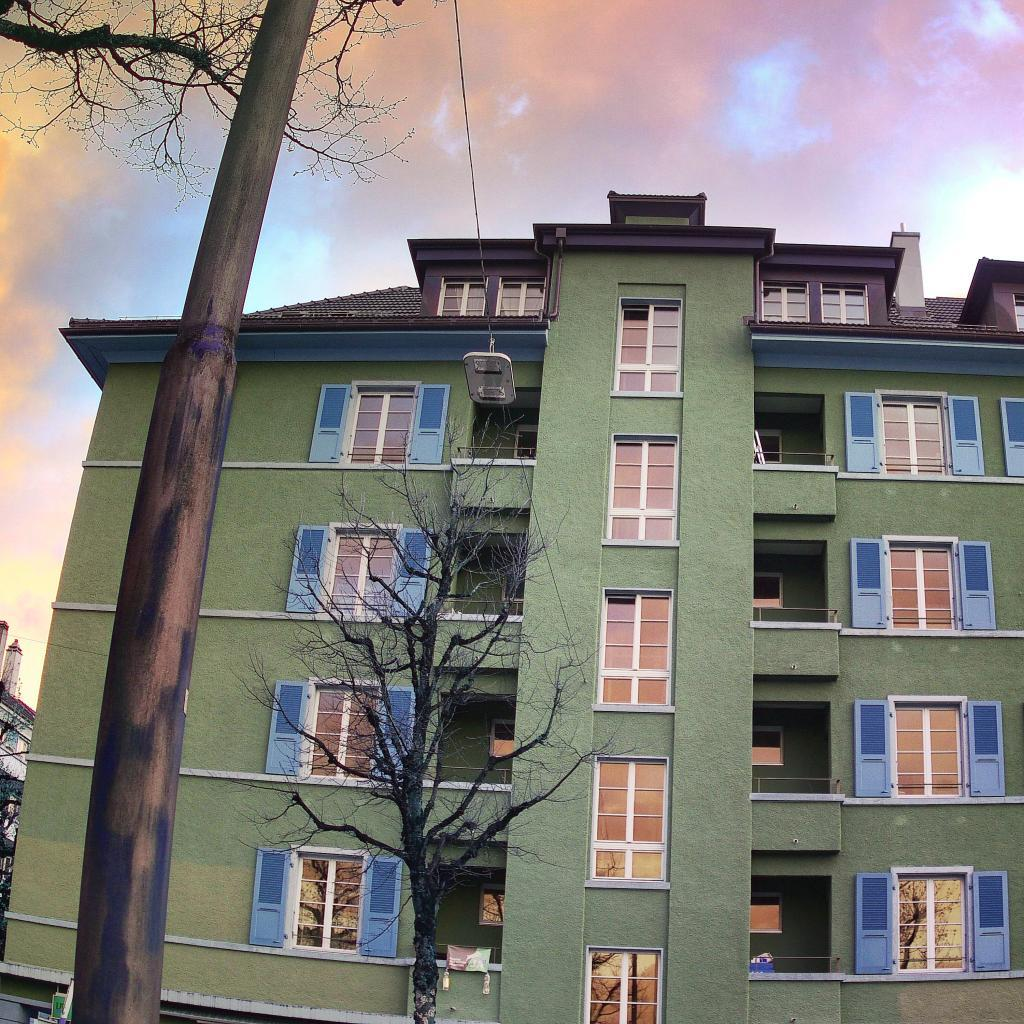balcony-fence: (422, 766, 512, 785), (749, 955, 840, 973), (752, 776, 842, 794), (753, 606, 840, 623), (434, 942, 501, 963), (437, 599, 524, 615), (456, 444, 537, 460), (753, 451, 836, 466)
facade: (0, 189, 1024, 1024)
shop: (0, 993, 256, 1024)
traffic-infrastructure: (454, 0, 587, 686)
vegetation: (197, 402, 663, 1024), (0, 660, 35, 963)
window: (588, 754, 669, 881), (596, 587, 673, 706), (606, 432, 680, 540), (291, 854, 365, 954), (898, 873, 970, 974), (613, 296, 682, 391), (310, 684, 379, 779), (583, 945, 665, 1024), (895, 702, 963, 797), (325, 530, 397, 616), (890, 542, 956, 630), (346, 386, 417, 464), (881, 396, 949, 474), (760, 280, 811, 323), (820, 282, 870, 325), (495, 276, 546, 317), (749, 891, 783, 933), (752, 725, 784, 765), (478, 884, 505, 927), (753, 572, 784, 609), (487, 718, 516, 757), (753, 429, 782, 463), (514, 424, 538, 459), (502, 564, 525, 600), (1013, 292, 1024, 332)
